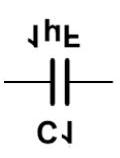Capacitor: (35, 53, 87, 109)
